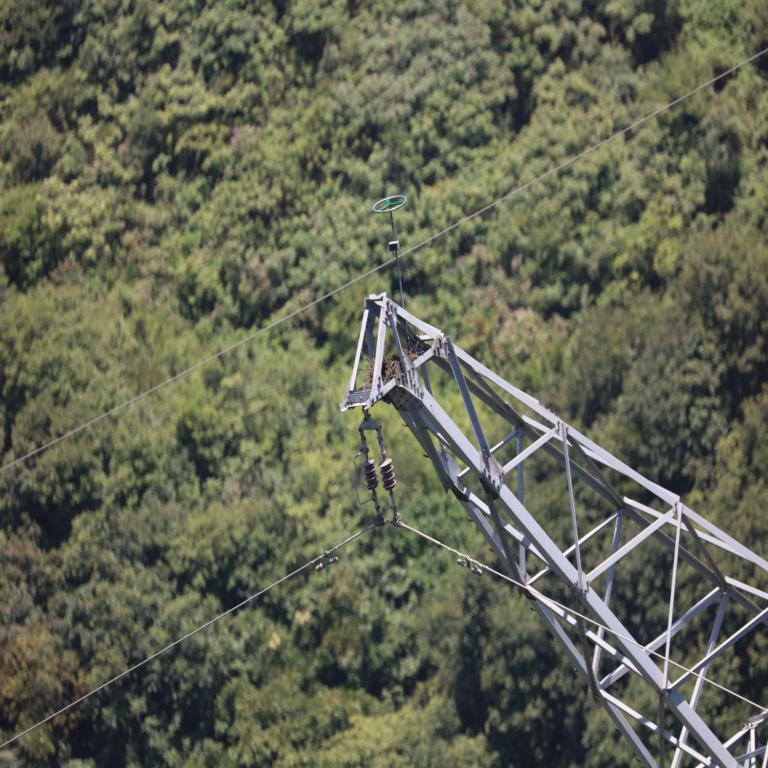nest: (368, 353, 417, 392)
